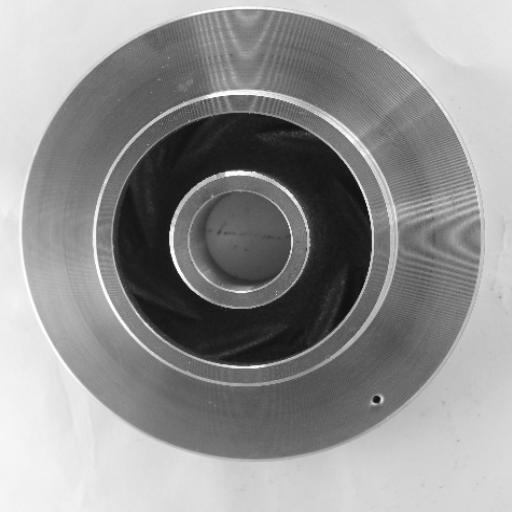pit: (363, 389, 392, 412)
unpolished_casting: (19, 5, 485, 463)
